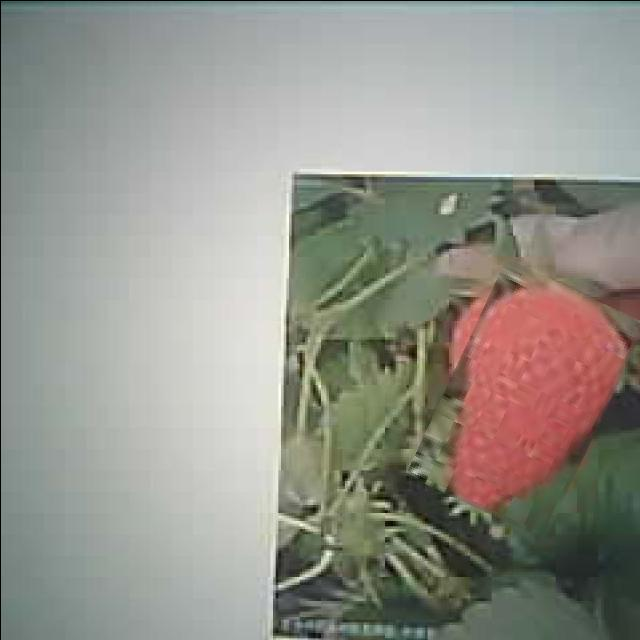strawberry: (427, 268, 624, 528)
